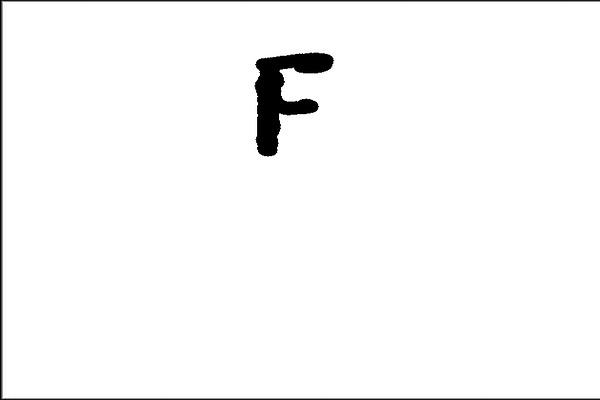F: (248, 46, 337, 161)
